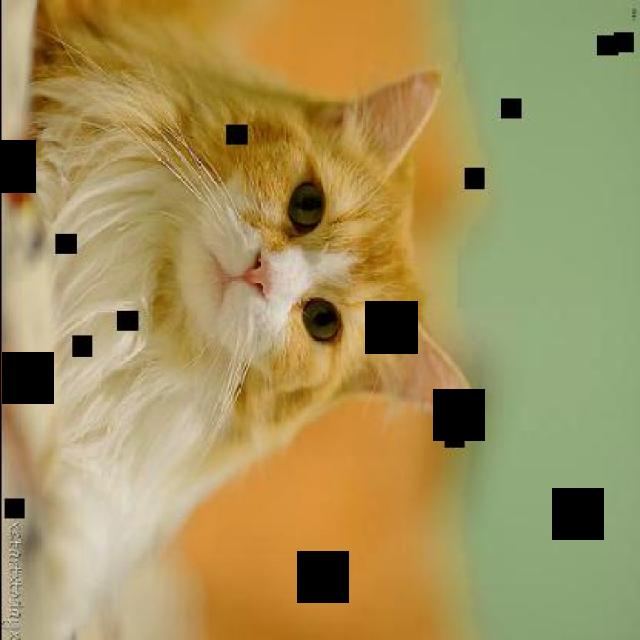unauthorized: (7, 0, 478, 638)
